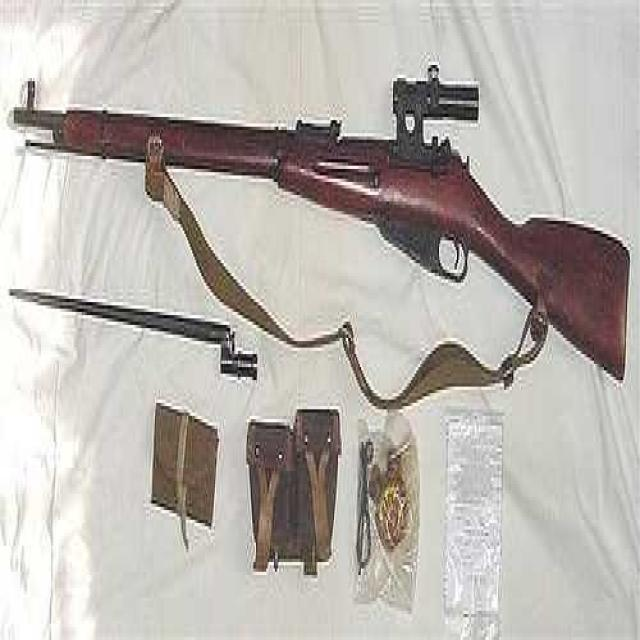AntRifle: (8, 41, 638, 409)
